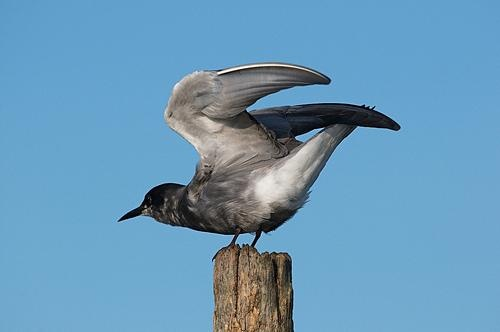bird: (117, 58, 403, 257)
